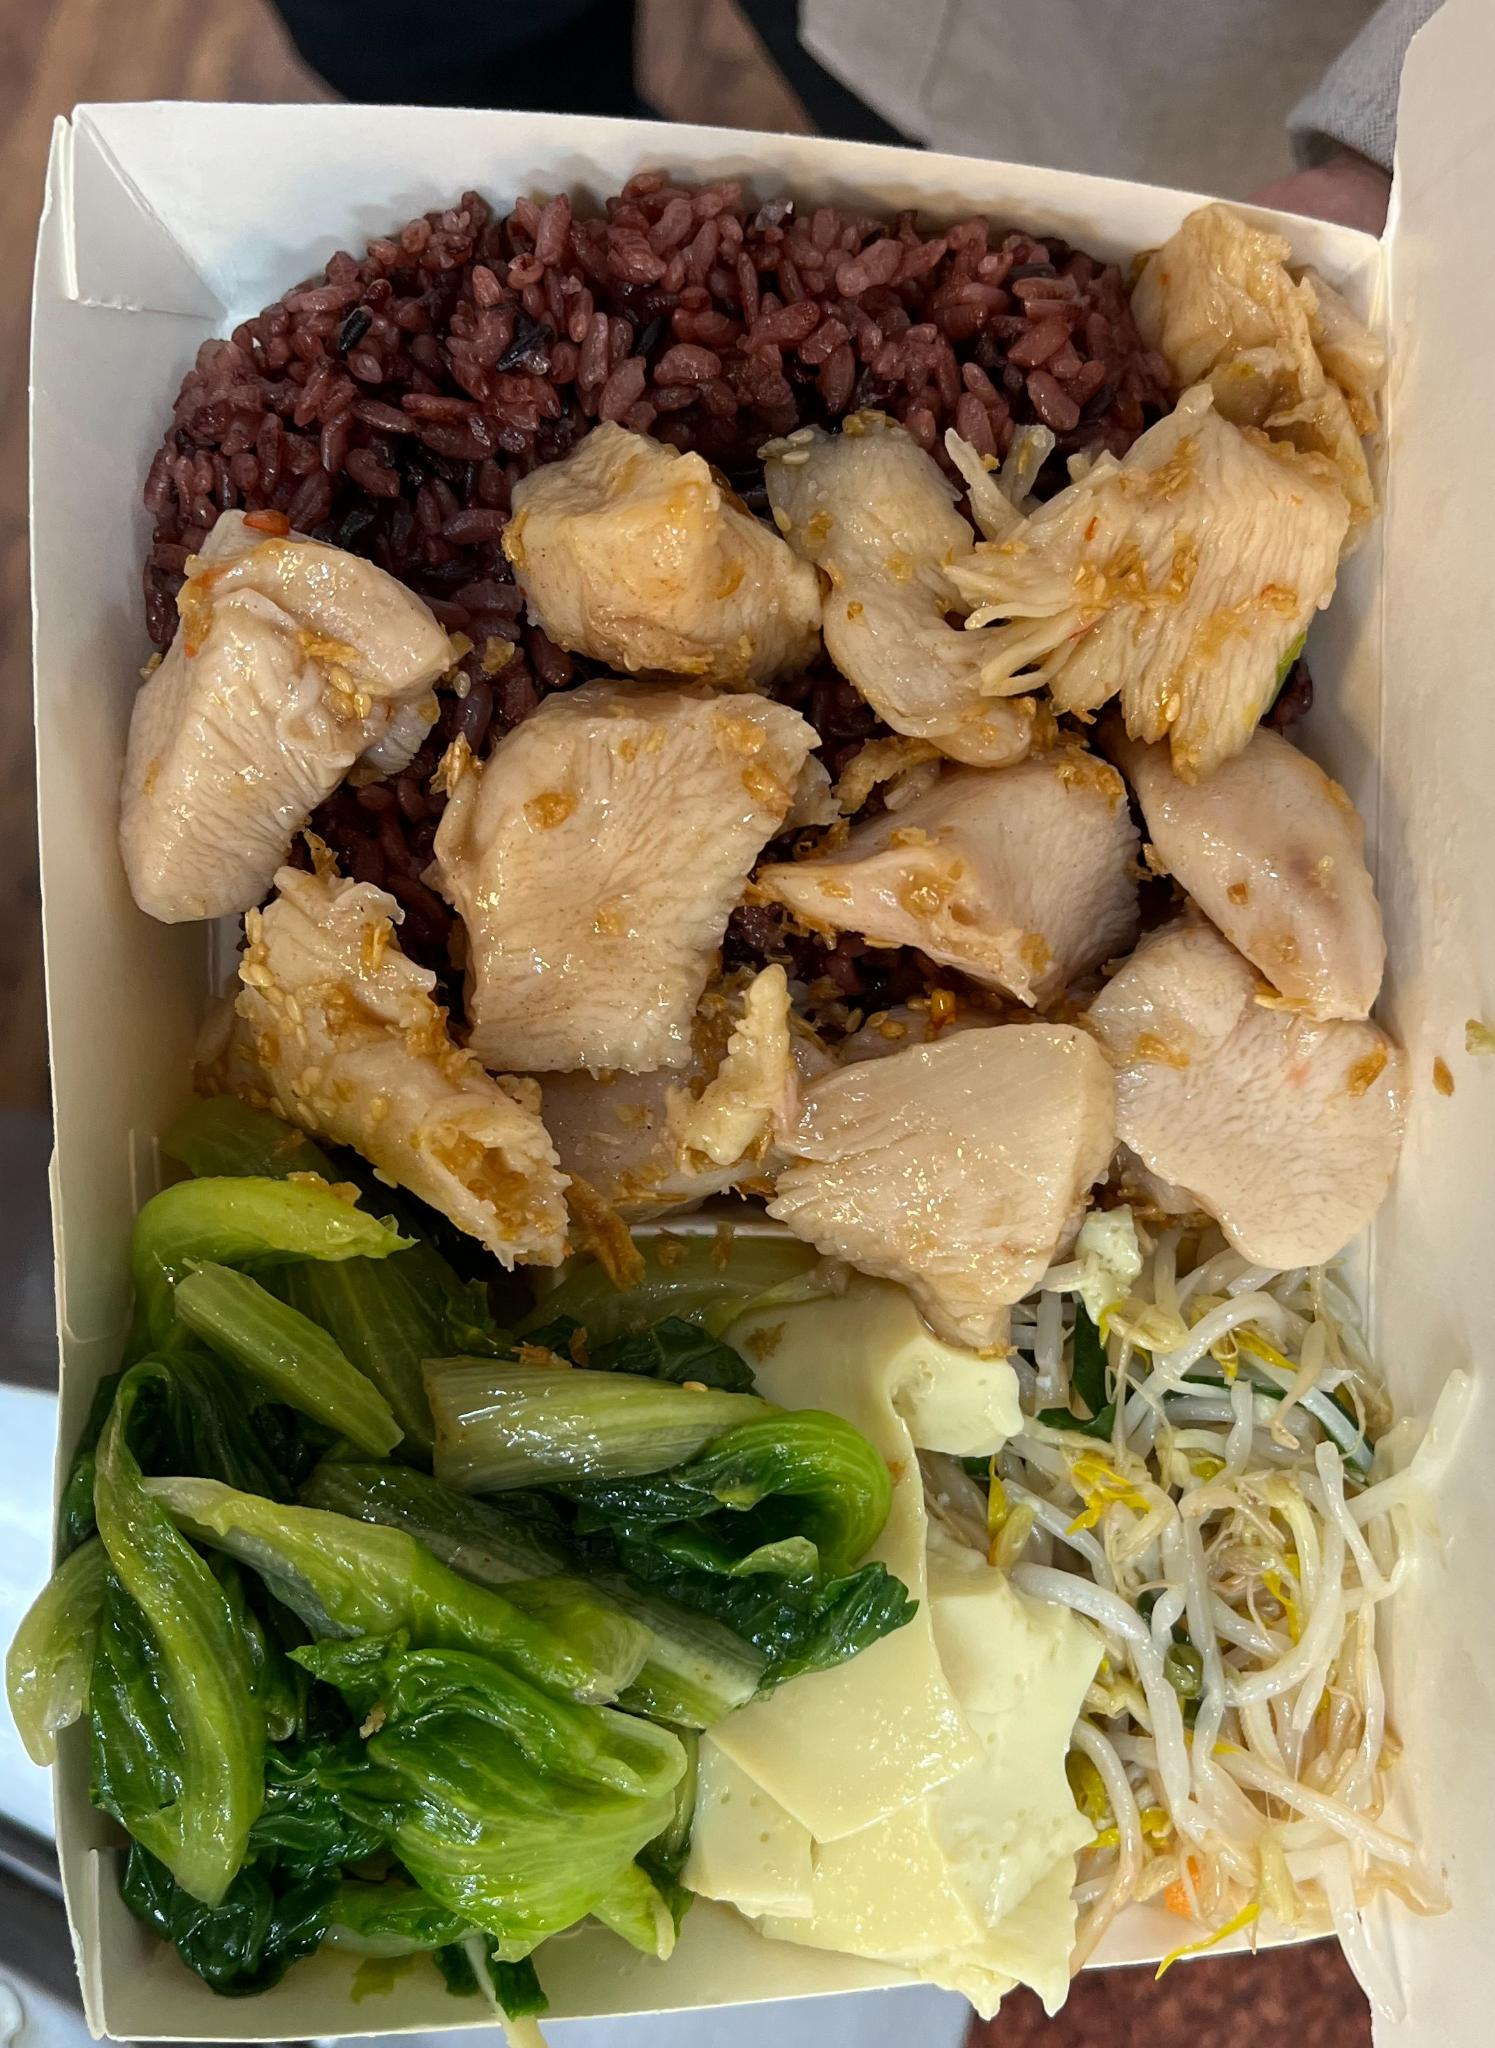big grilled chicken leg: (4, 36, 1454, 2048)
braised fish: (130, 190, 1306, 1108)
braised fish fillet: (67, 1195, 839, 1973), (993, 1265, 1423, 1923), (706, 1280, 1082, 1998)
braised pork: (152, 415, 1360, 1253)
